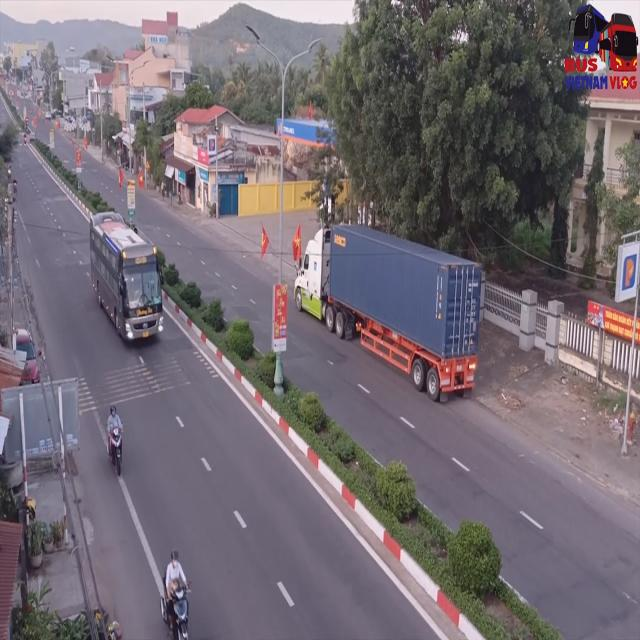bus: (90, 219, 166, 348)
motorbike: (164, 553, 194, 640), (105, 408, 123, 480)
truck: (296, 230, 484, 405)
